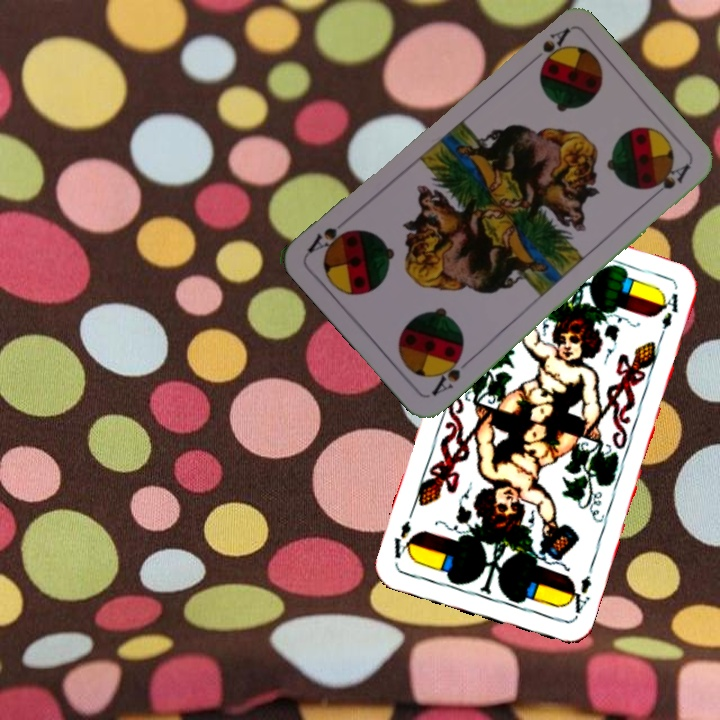EA: (562, 571, 595, 621)
SA: (427, 347, 475, 399), (537, 24, 573, 66)
